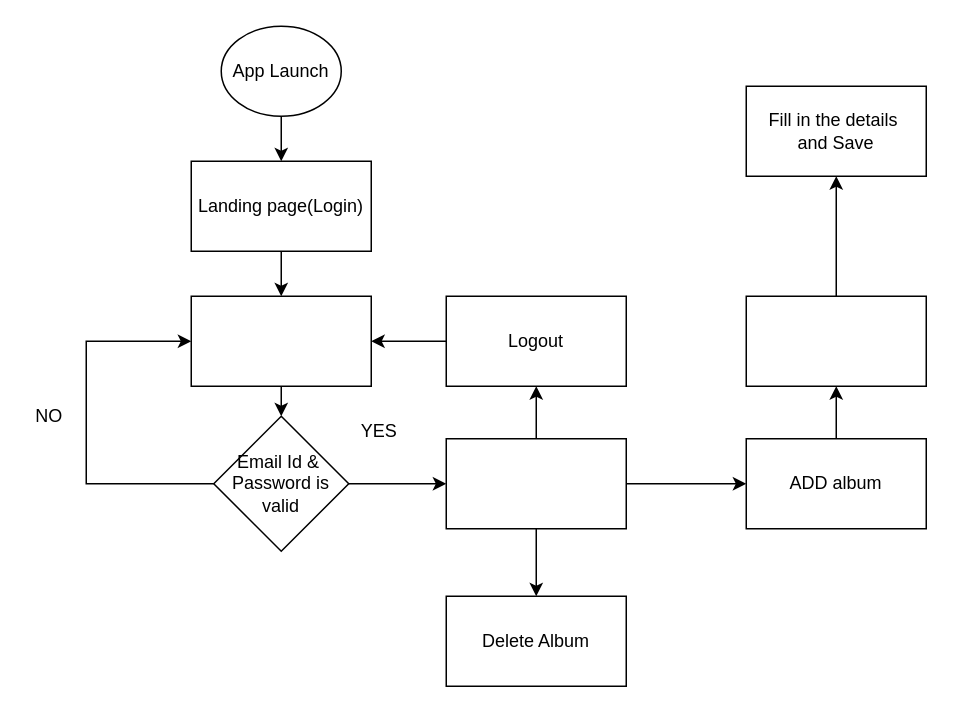
Some shapes in this 953 by 713 pixel diagram are drawn without their labels. The shapes that lost their labels are listed below. From the top down, each one's box as (x1, y1, x2, y2) in pixels, then its label:
(190, 295, 371, 386): Enter the Email ID and Password
(745, 295, 926, 386): Modal
(445, 437, 626, 529): Dashboard Page (Display data)
